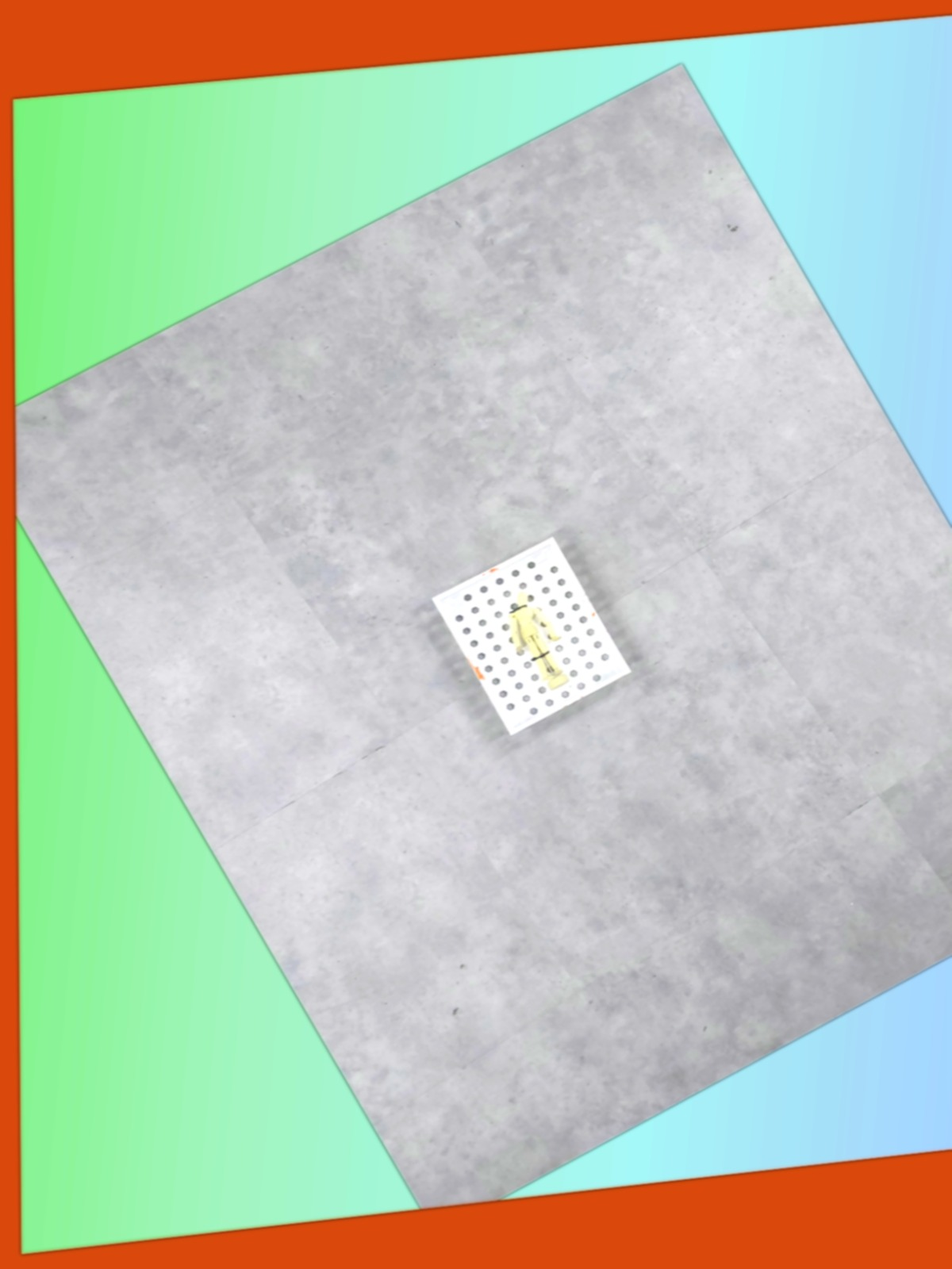basket: (428, 532, 636, 740)
mannequin: (506, 589, 568, 692)
